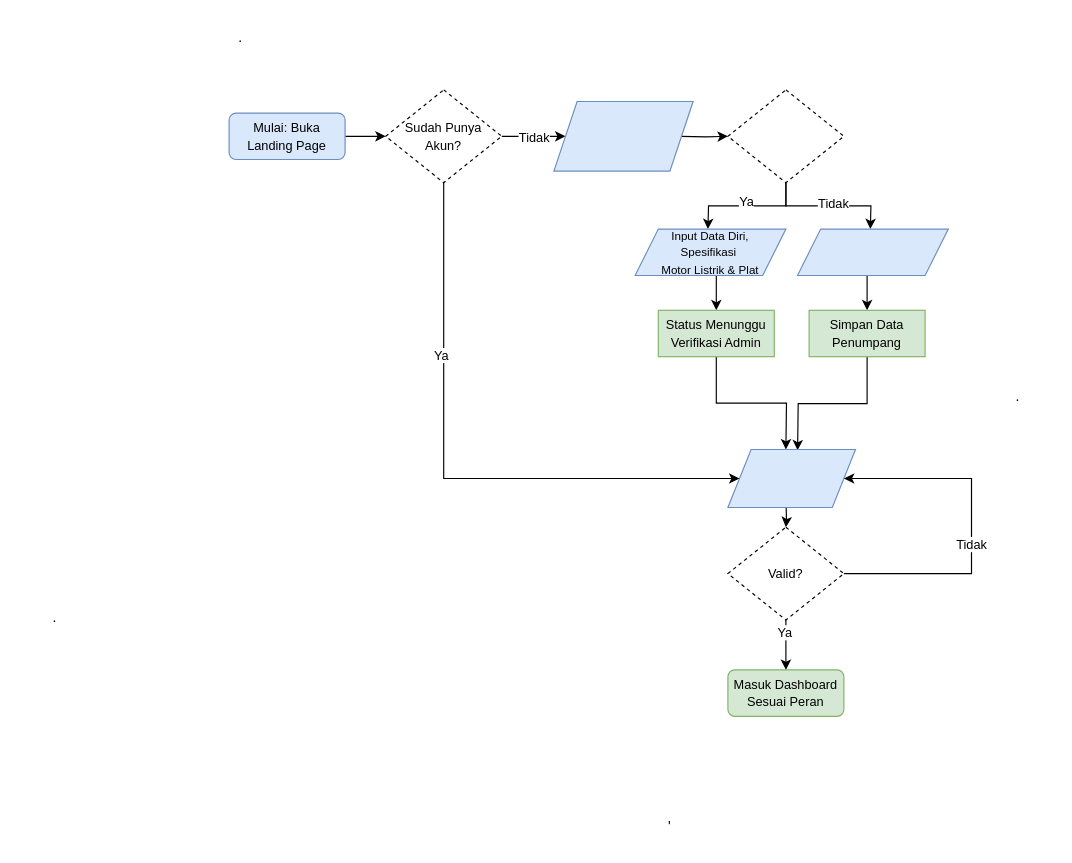
The diagram is 1072 pixels wide and 863 high, and some of its shapes have lost their labels. The shapes that lost their labels are listed below. From the top down, each one's centre as x and y in pixels, then its label:
the point at 623,135: Pilih Peran: Penumpang/Driver
the point at 785,136: Daftar Sebagai Driver?
the point at 872,252: Input Data Diri
the point at 791,477: Input No.Telpn & Password
